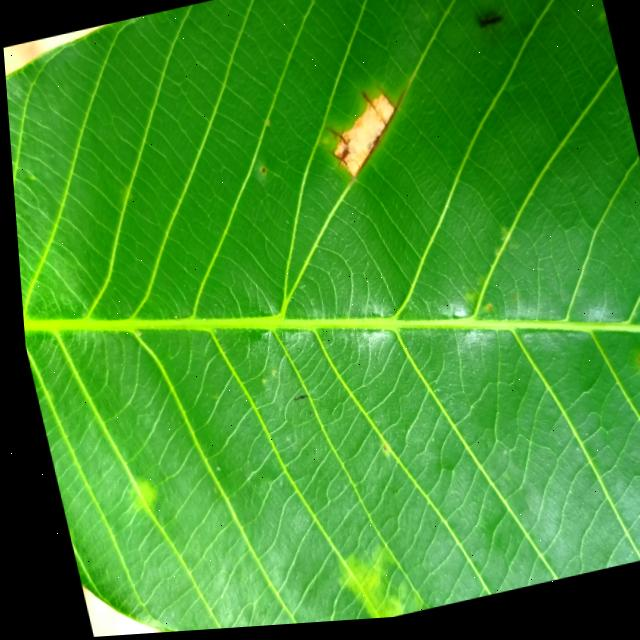Colletotrichum: (258, 171, 263, 176)
Corynespora: (338, 92, 421, 181), (322, 125, 354, 177), (358, 93, 383, 132)
Leaf-Blight: (322, 98, 405, 184)
